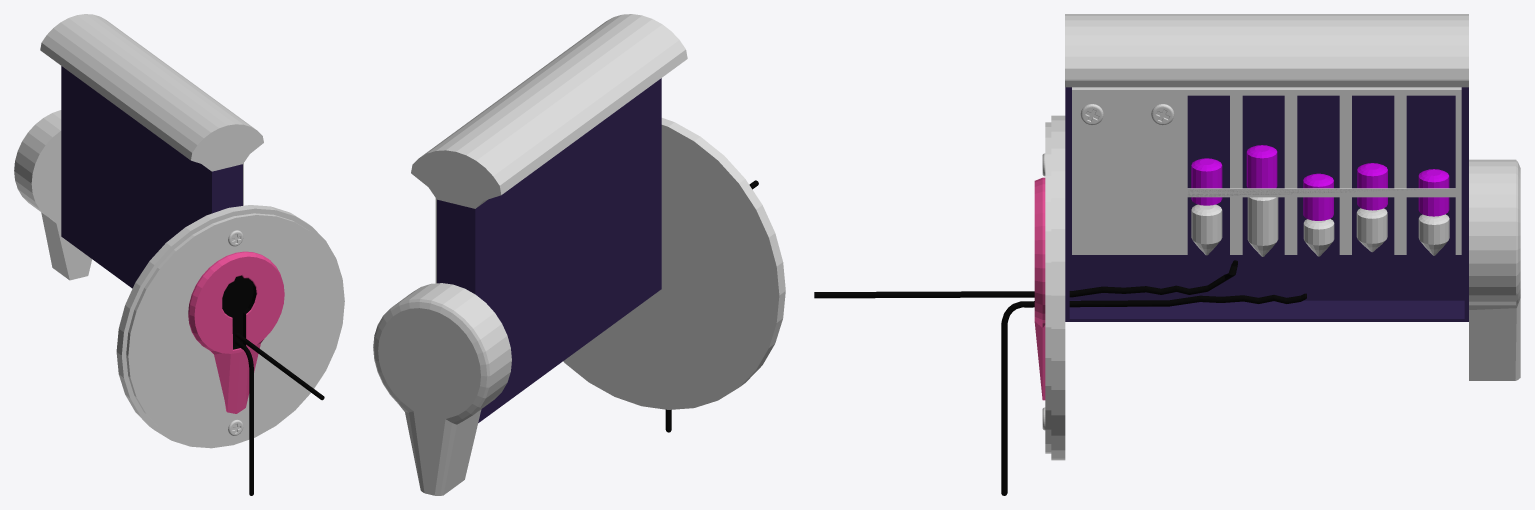
The model's file is Lock.fbx.
3 views of the same model, side by side, from view 1: azimuth 30°, elevation 25°; view 2: azimuth 150°, elevation 25°; view 3: azimuth 270°, elevation 25° (orthographic). The views are drawn at different scales.
Parts seen in each view (by area): view 1: anahtarlık, yuva, anahtar üstü, anahtar silüet, anahtar arkalık, anahtarlık2, tel toka L, te toka; view 2: yuva, anahtarlık2, anahtar üstü, anahtar arkalık; view 3: yuva, AAA yeniyuva, anahtar üstü, anahtar arkalık, anahtarlık2, tel toka L, te toka, anahtarlık, anahtar silüet, 2sivri, 1sivri, 2 (+7 smaller).
Boxes of the visible parts, x1,y1,x2,y2 form: anahtarlık: (126,213,342,445); yuva: (61,66,242,288); anahtar üstü: (40,14,263,171); anahtar silüet: (188,251,284,413); anahtar arkalık: (14,110,92,280); anahtarlık2: (116,205,344,448); tel toka L: (235,340,253,495); te toka: (235,333,324,400); yuva: (437,78,661,422); anahtarlık2: (563,118,785,409); anahtar üstü: (411,14,687,208); anahtar arkalık: (373,283,511,495); yuva: (1065,87,1468,321); AAA yeniyuva: (1072,87,1461,254); anahtar üstü: (1065,14,1468,87); anahtar arkalık: (1469,159,1520,380); anahtarlık2: (1051,115,1065,460); tel toka L: (1001,293,1306,495); te toka: (814,260,1237,298); anahtarlık: (1045,122,1051,453); anahtar silüet: (1034,177,1045,400); 2sivri: (1247,197,1278,256); 1sivri: (1191,204,1222,255); 2: (1246,145,1277,188).
Bounding box in the file's own units: 208 × 316 × 426.
